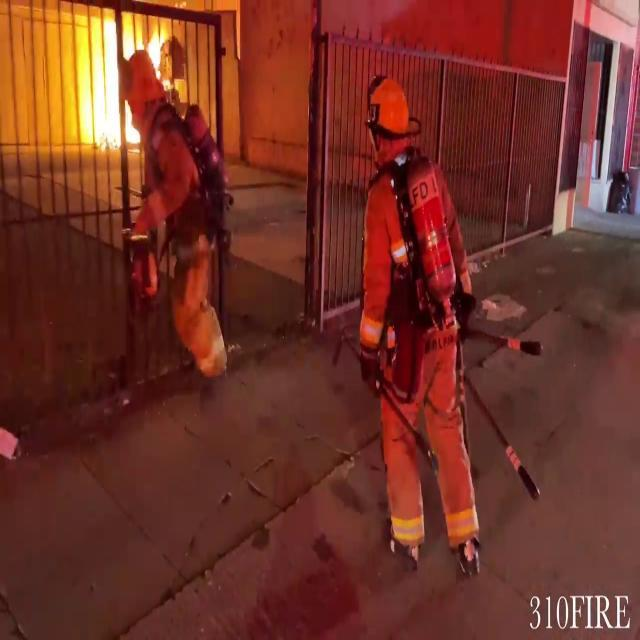Fire: (64, 11, 176, 161)
